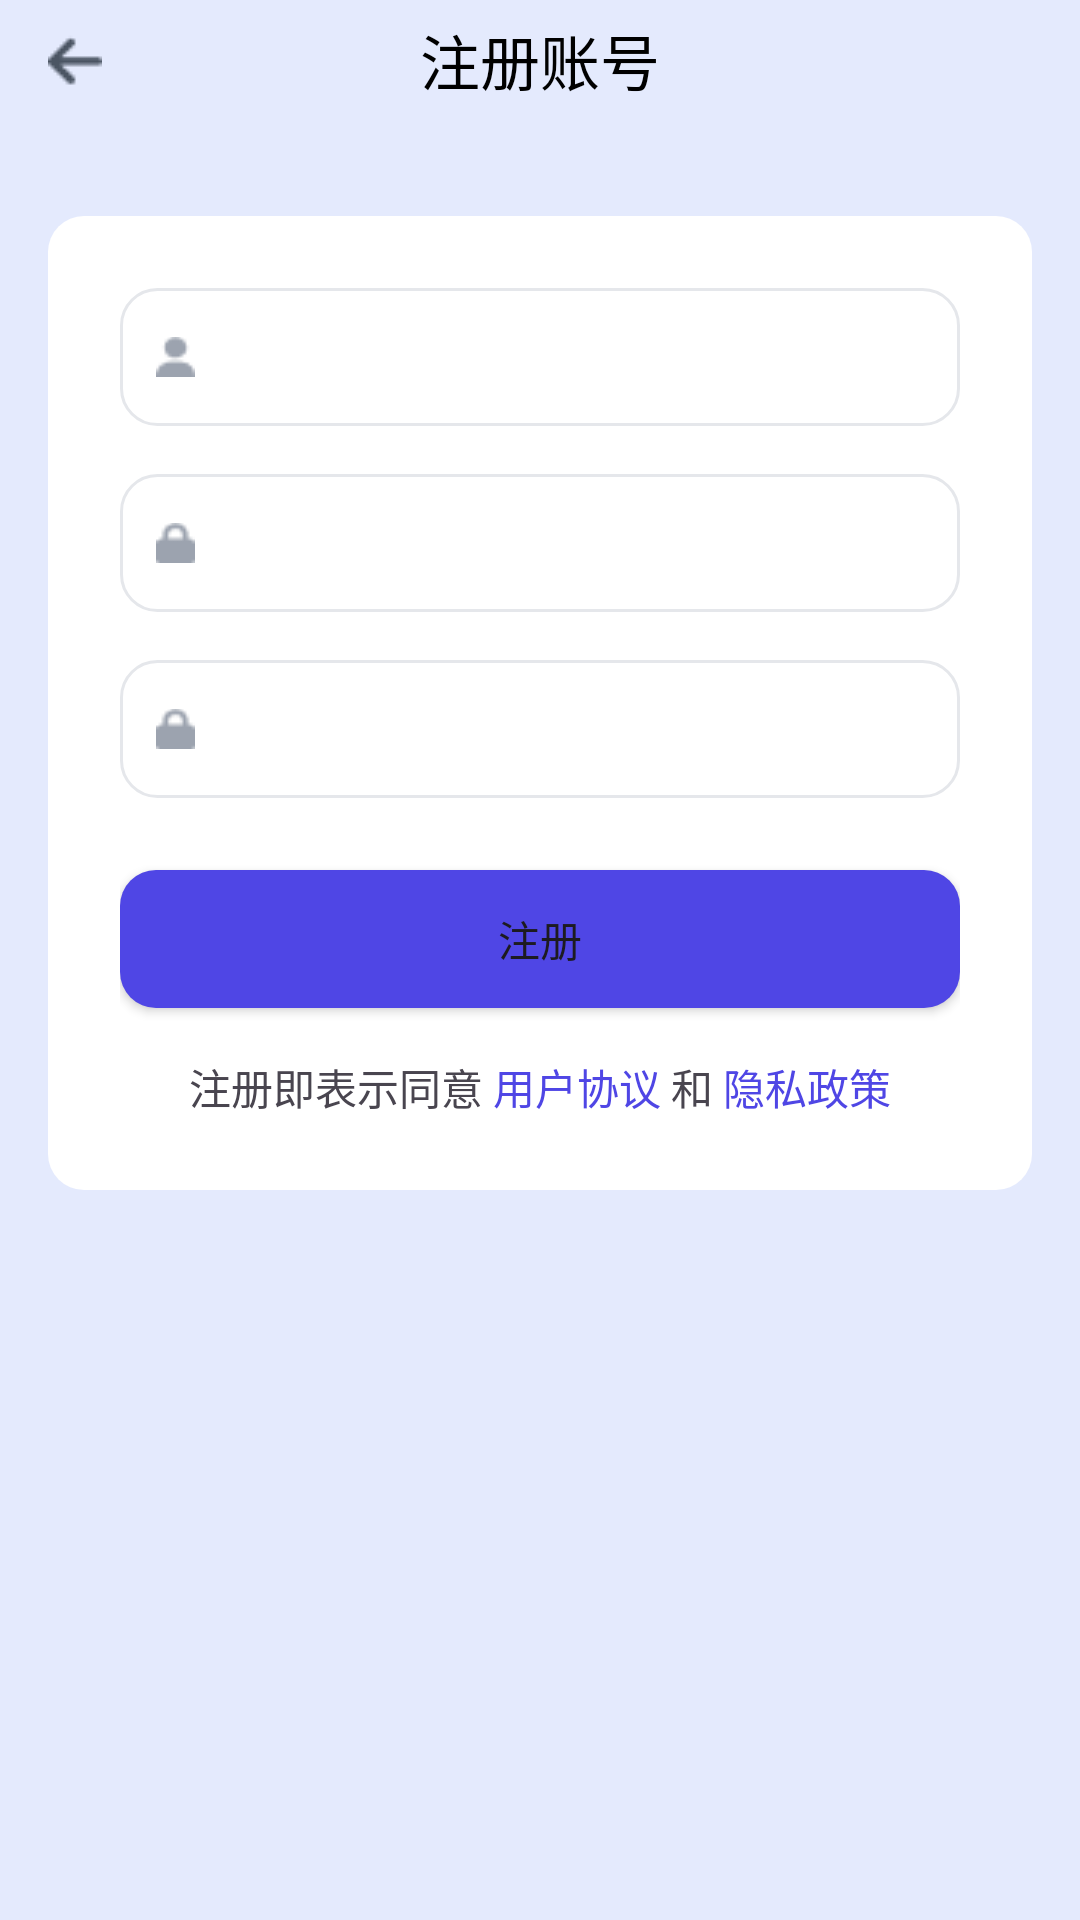

Named icons in this screenshot (1080px x 1920px) and their centers, (x,y):
account: (175,357)
back: (75,61)
lock: (175,543), (175,729)
